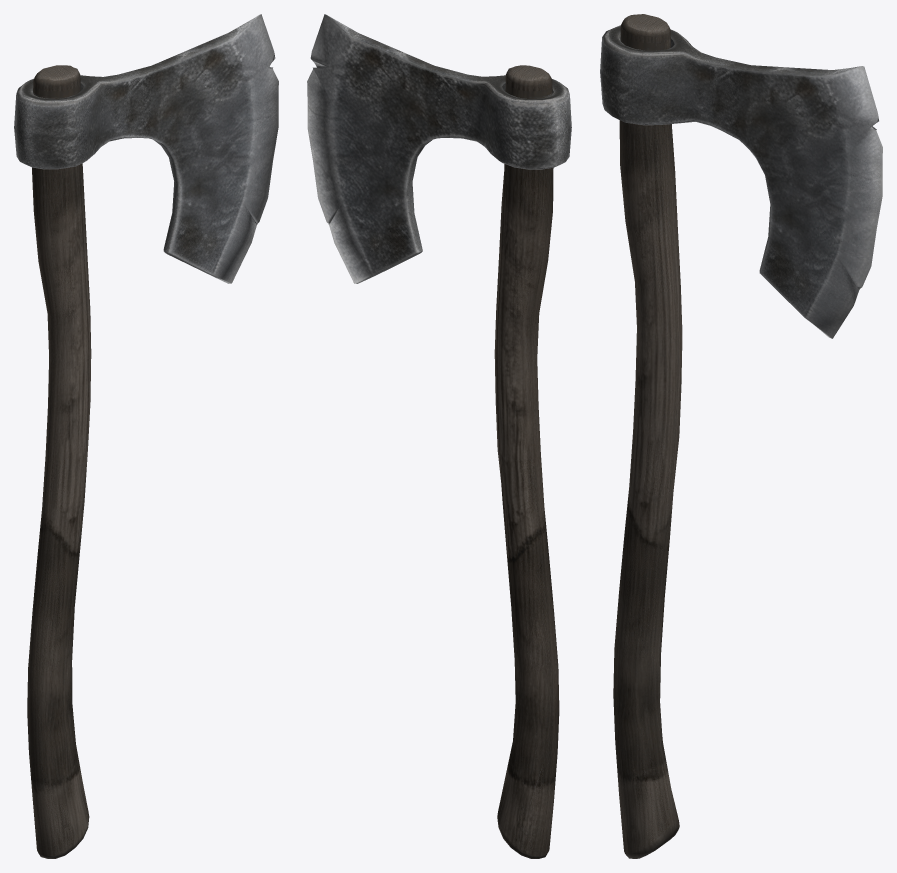
Rendered from warrior_hatchet.glb.
The picture shows the model from 3 angles, left to right: view 1: azimuth 30°, elevation 25°; view 2: azimuth 150°, elevation 25°; view 3: azimuth 330°, elevation 25°; orthographic projection. The views are drawn at different scales.
Visible parts, largest first — view 1: Mesh_0; view 2: Mesh_0; view 3: Mesh_0.
Part boxes in pixels (box(x1,y1,x2,y2)): Mesh_0: box(14, 14, 278, 858); Mesh_0: box(307, 14, 571, 858); Mesh_0: box(600, 14, 882, 858).
Bounding box in the file's own units: 0.2938 × 0.85 × 0.0717.
Materials: 1 (1 with a texture image).
